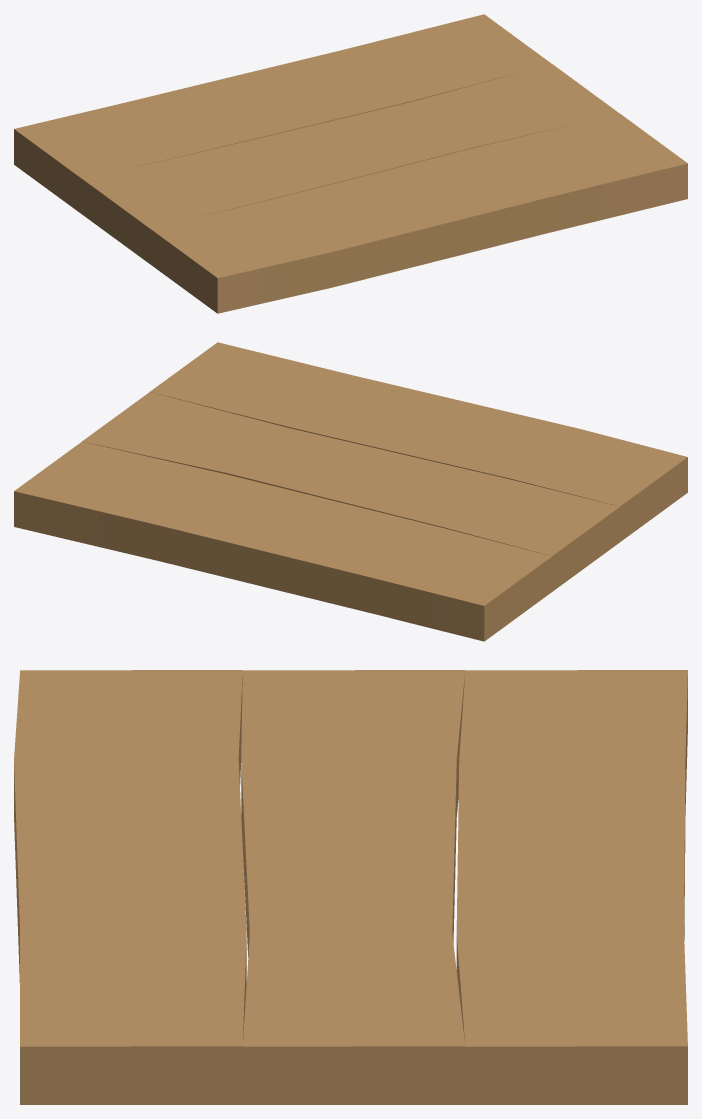
The model's file is SM_Plank_base_nonails_3.fbx.
The picture shows the model from 3 angles, top to bottom: view 1: azimuth 30°, elevation 25°; view 2: azimuth 150°, elevation 25°; view 3: azimuth 270°, elevation 25°; orthographic projection. The views are drawn at different scales.
Visible parts, largest first — view 1: Plank_base_nonails_3; view 2: Plank_base_nonails_3; view 3: Plank_base_nonails_3.
Boxes of the visible parts, <box> form: Plank_base_nonails_3: <box>14,14,687,313</box>; Plank_base_nonails_3: <box>14,342,687,641</box>; Plank_base_nonails_3: <box>14,670,687,1104</box>.
Size of the model in its own units: 400 by 29.04 by 303.
